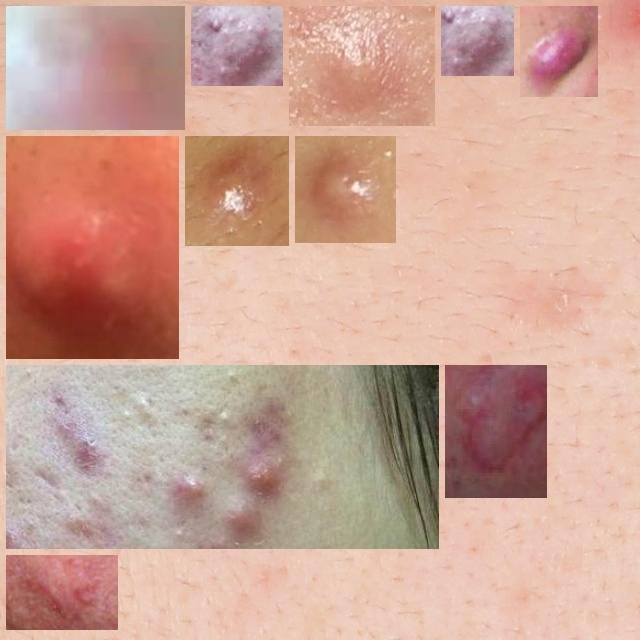nodule: (14, 373, 459, 541), (14, 144, 171, 351), (14, 14, 177, 122), (297, 14, 427, 118), (453, 373, 539, 490), (193, 144, 281, 238), (303, 144, 388, 235), (14, 563, 110, 622), (199, 14, 275, 78), (528, 14, 590, 89), (449, 14, 506, 68)
